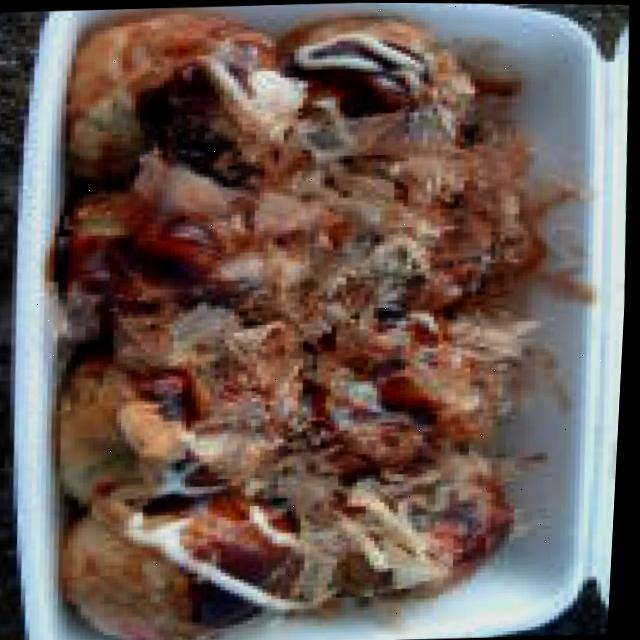炸货点心: (37, 0, 640, 640)
